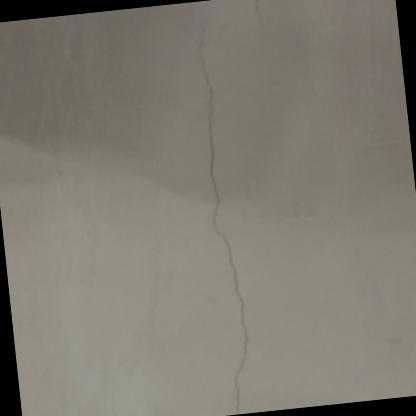crack: (196, 19, 247, 414)
